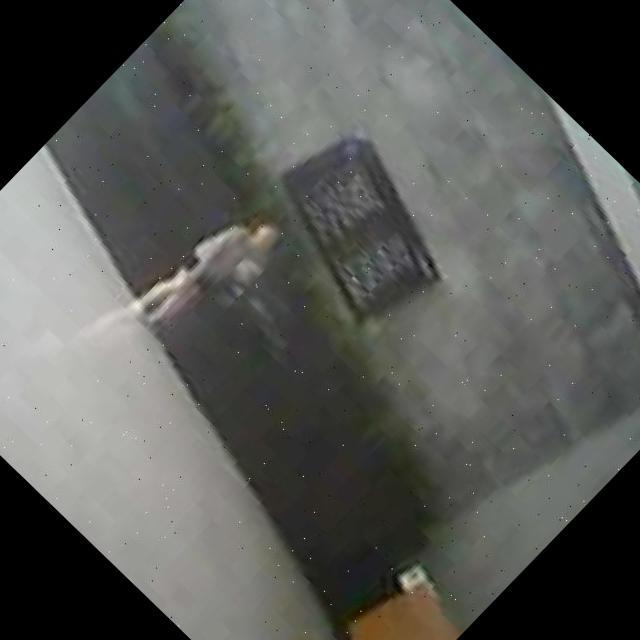person: (128, 192, 292, 356)
